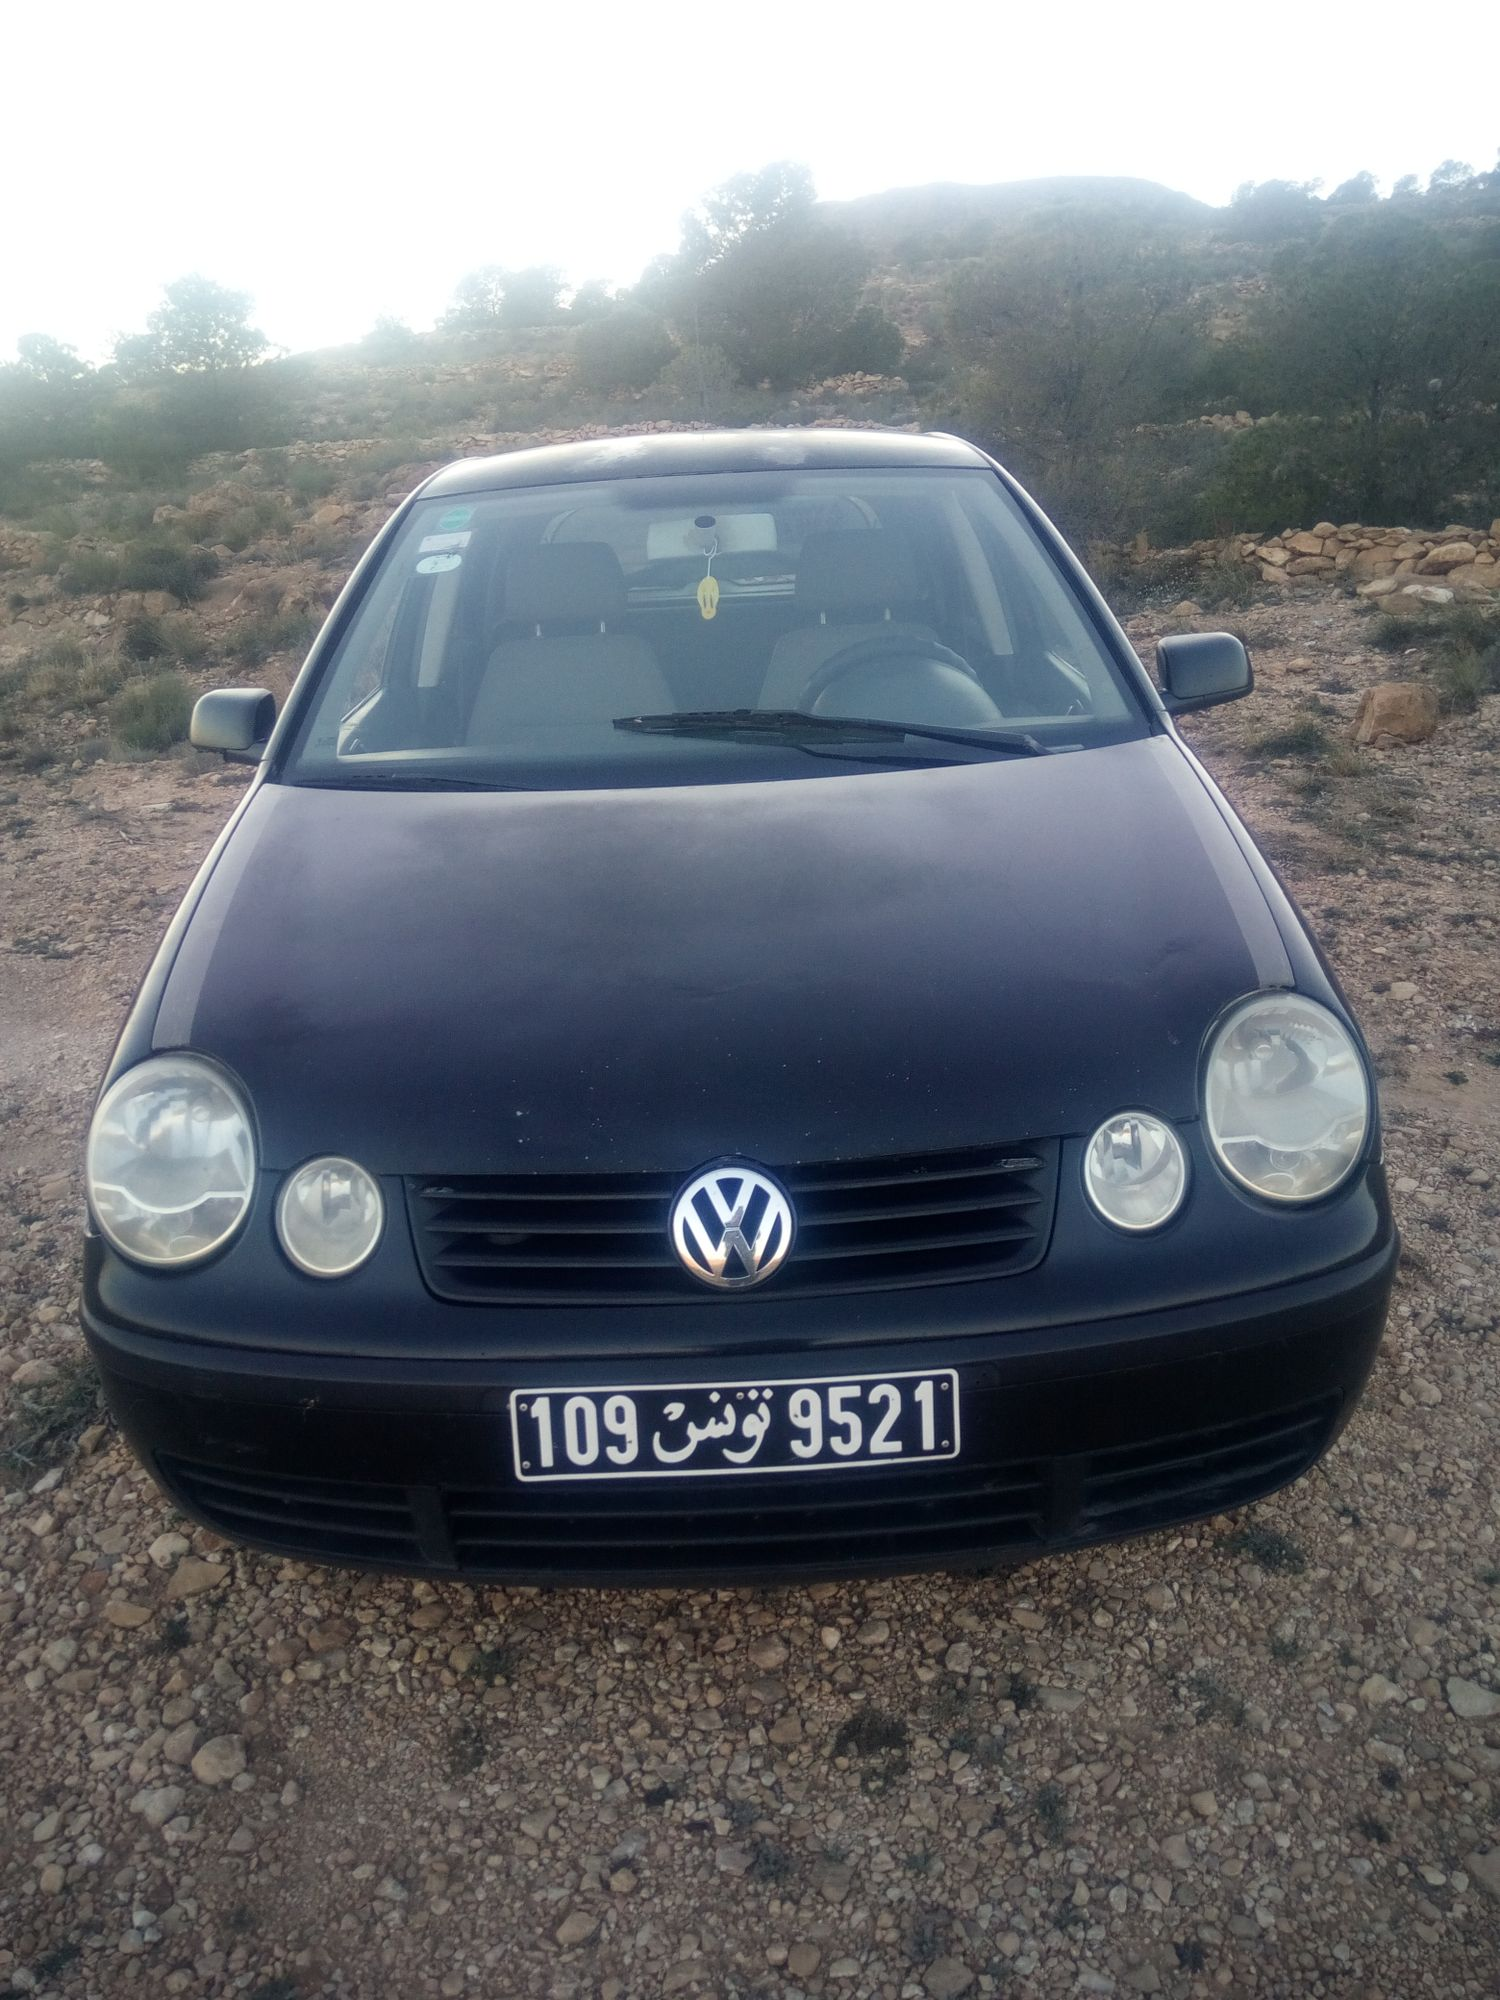LP: (512, 1369, 963, 1485)
